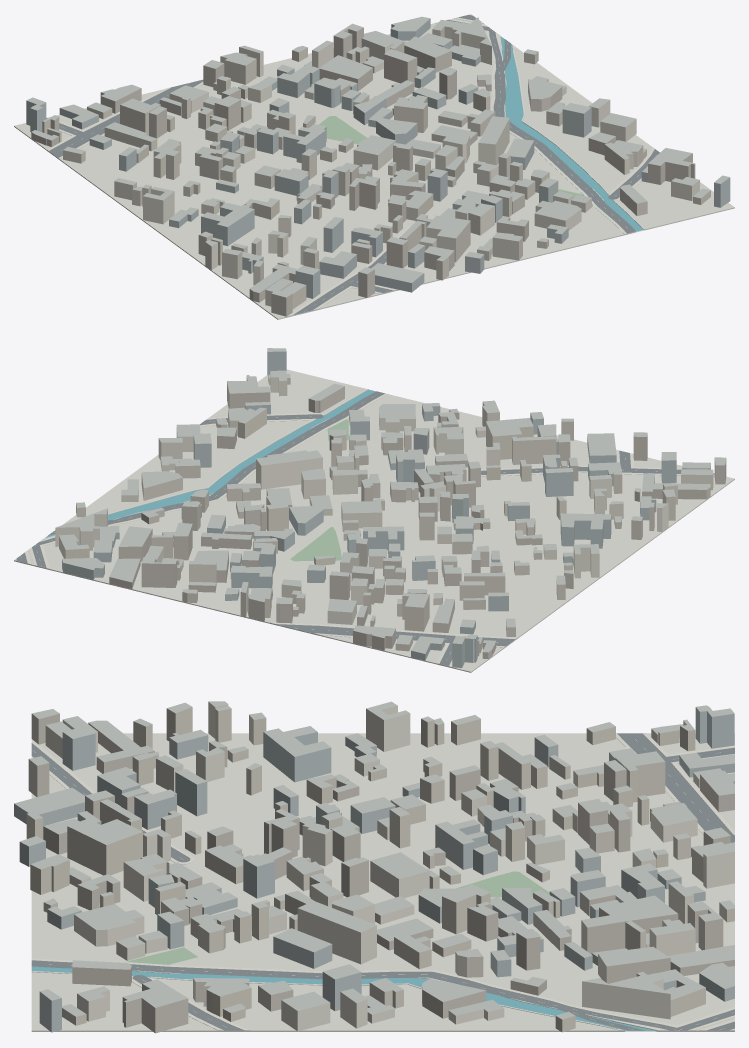
3 views of the same model, one above another, from view 1: azimuth 30°, elevation 25°; view 2: azimuth 150°, elevation 25°; view 3: azimuth 270°, elevation 25° (orthographic). The views are drawn at different scales.
Parts seen in each view (by area): view 1: city; view 2: city; view 3: city.
Part boxes in pixels (box(x1,y1,x2,y2)): city: box(14, 14, 734, 319); city: box(14, 348, 734, 672); city: box(14, 701, 734, 1033).
Bounding box in the file's own units: 505 × 26 × 512.
